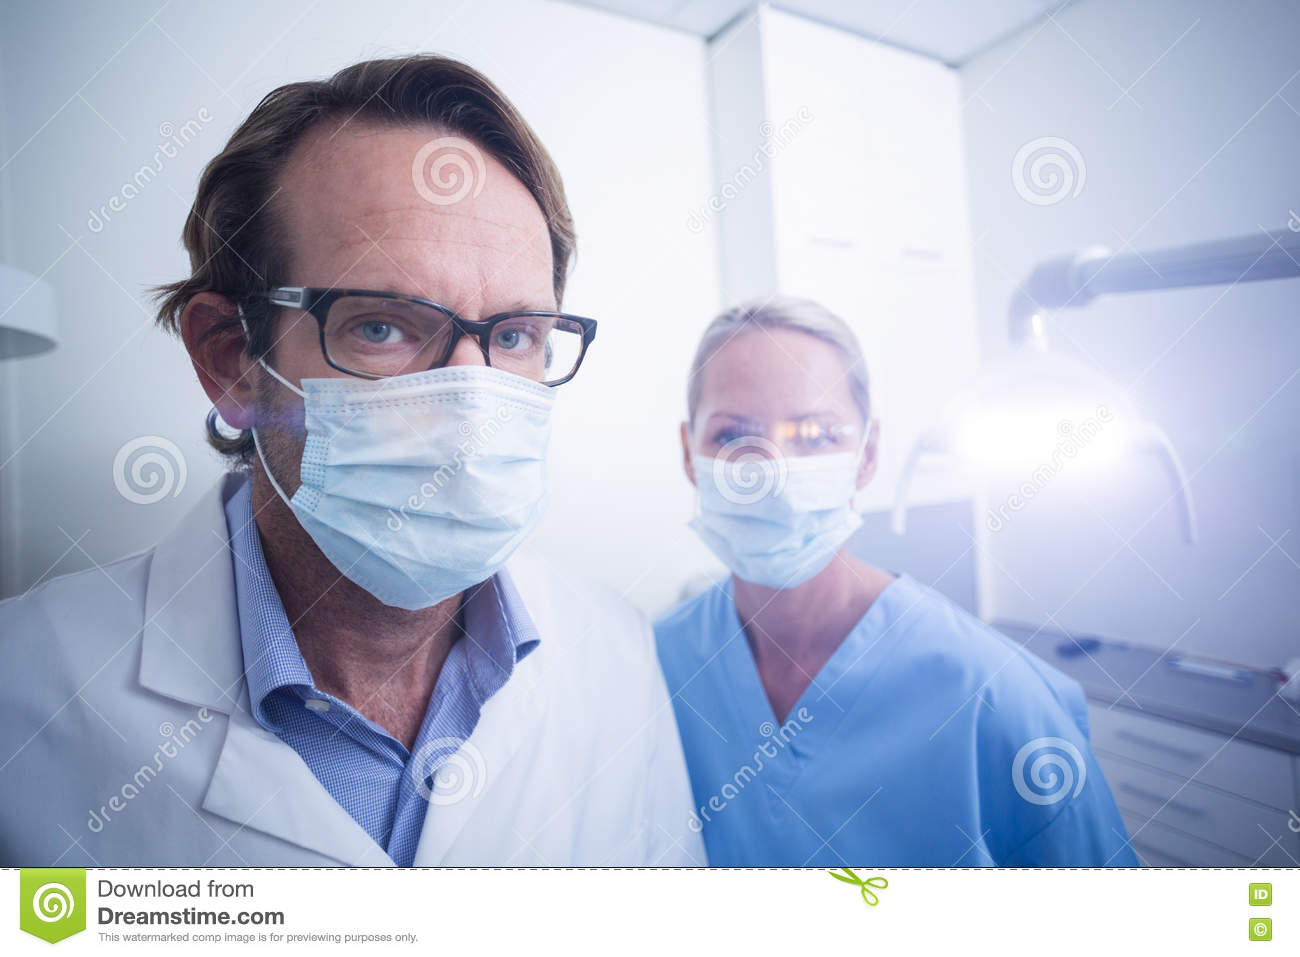mask: (288, 374, 560, 610), (682, 455, 869, 580)
